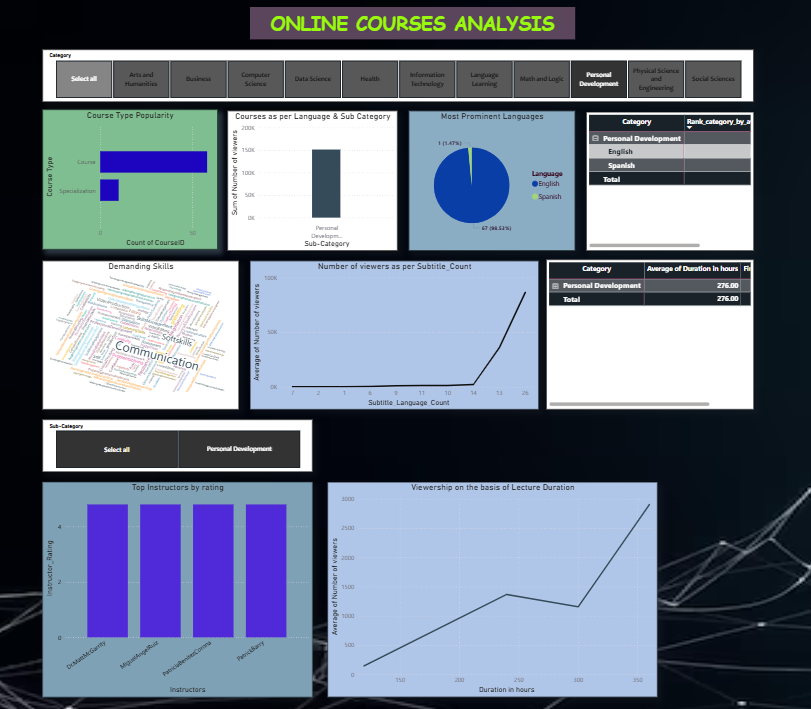

Layout of this report page (visuals, bound fields, positions):
{"tool":"powerbi","page":{"name":"Page 1","canvas":[1500,1500],"ordinal":0},"visuals":[{"type":"textbox","box":[430,20,650,65],"z":0},{"type":"slicer","title":"Categories","fields":{"Values":["Online_Courses.Category"]},"box":[15,105,1422.5,105],"z":1000},{"type":"barChart","title":"Course Type Popularity","fields":{"Y":["Online_Courses.CourseID"],"Category":["Online_Courses.Course Type"]},"box":[15,225,350,280],"z":2000},{"type":"columnChart","title":"Courses as per Language & Sub Category ","fields":{"Category":["Online_Courses.Sub-Category","Online_Courses.Language"],"Y":["Online_Courses.Number of viewers"]},"box":[385,227.5,340,280],"z":3000},{"type":"WordCloud1447959067750","title":"Demanding Skills","fields":{"Category":["Online_Courses.Skills"]},"box":[15,527.5,392.5,297.5],"z":4000},{"type":"pieChart","title":"Most Prominent Languages","fields":{"Category":["Online_Courses.Language"],"Y":["Online_Courses.CourseID"]},"box":[747.5,227.5,332.5,280],"z":5000},{"type":"pivotTable","fields":{"Rows":["Online_Courses.Category","Online_Courses.Language"],"Values":["Online_Courses.Rank_category_by_avg_views"]},"box":[1102.5,230,335,277.5],"z":6000},{"type":"lineChart","title":"Number of viewers as per Subtitle_Count","fields":{"Category":["Online_Courses.Subtitle_Language_Count"],"Y":["Online_Courses.Number of viewers"]},"box":[430,527.5,577.5,297.5],"z":7000},{"type":"clusteredColumnChart","title":"Top Instructors by rating","fields":{"Category":["Teachers.Instructors"],"Y":["Teachers.Instructor_Rating"]},"box":[15,970,540,430],"z":8000},{"type":"slicer","fields":{"Values":["Teachers.Sub-Category"]},"box":[15,845,540,105],"z":9000},{"type":"lineChart","title":"Viewership on the basis of Lecture Duration","fields":{"Category":["Online_Courses.Duration in hours"],"Y":["Online_Courses.Number of viewers"]},"box":[585,970,660,430],"z":10000},{"type":"pivotTable","fields":{"Rows":["Online_Courses.Category","Online_Courses.Sub-Category"],"Values":["Online_Courses.Duration in hours","Online_Courses.Skills"]},"box":[1022.5,525,415,300],"z":11000}]}

Visuals, with their boxes in screenshot pixels (x1, y1, x2, y2):
textbox: 247,0,573,26
"Categories" slicer: 39,36,753,88
"Course Type Popularity" barChart: 39,96,215,236
"Courses as per Language & Sub Category " columnChart: 225,97,395,238
"Demanding Skills" WordCloud1447959067750: 39,248,236,397
"Most Prominent Languages" pieChart: 407,97,573,238
pivotTable - Online_Courses.Category x Online_Courses.Language: 585,98,753,238
"Number of viewers as per Subtitle_Count" lineChart: 247,248,537,397
"Top Instructors by rating" clusteredColumnChart: 39,470,310,685
slicer - Teachers.Sub-Category: 39,407,310,459
"Viewership on the basis of Lecture Duration" lineChart: 325,470,656,685
pivotTable - Online_Courses.Category x Online_Courses.Sub-Category: 544,246,753,397
